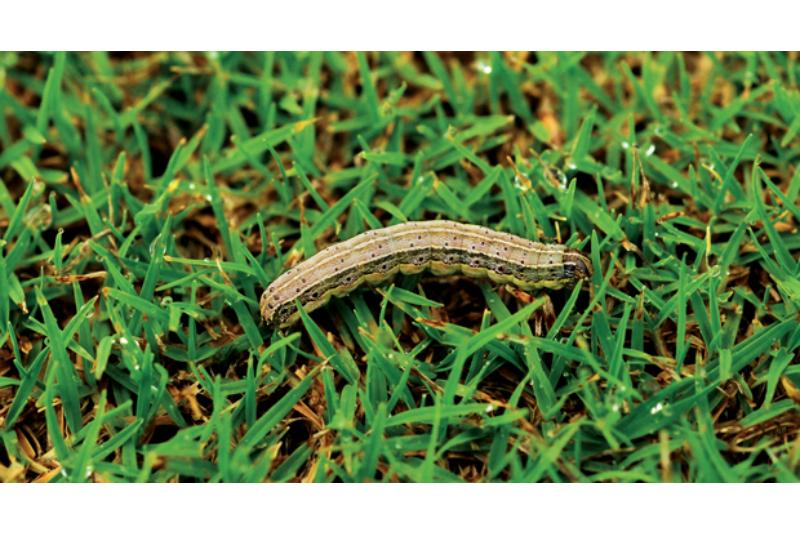fall-armyworm: (262, 220, 593, 331)
